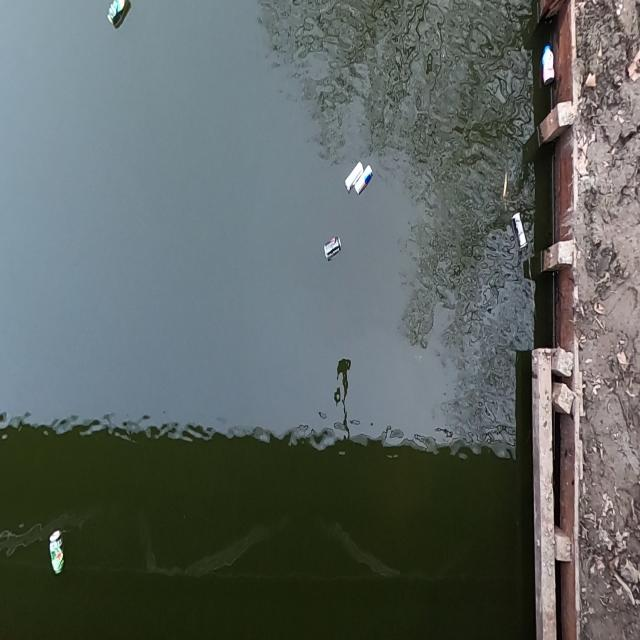Non plastique: (44, 526, 78, 586), (334, 150, 370, 199), (349, 158, 379, 212), (320, 219, 343, 273), (510, 204, 530, 259), (104, 0, 130, 38)
